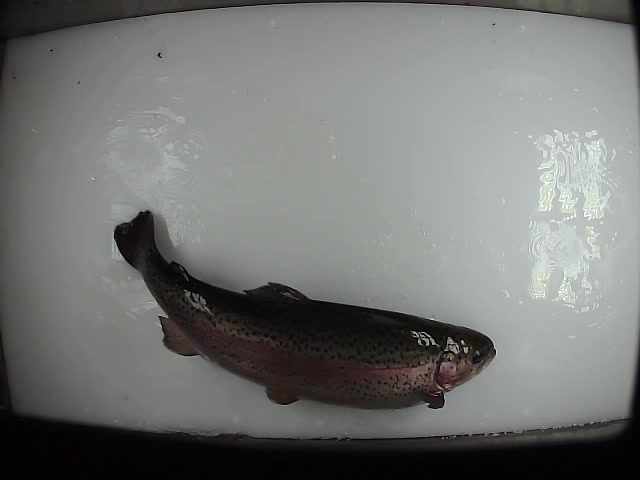fish: (113, 207, 497, 412)
